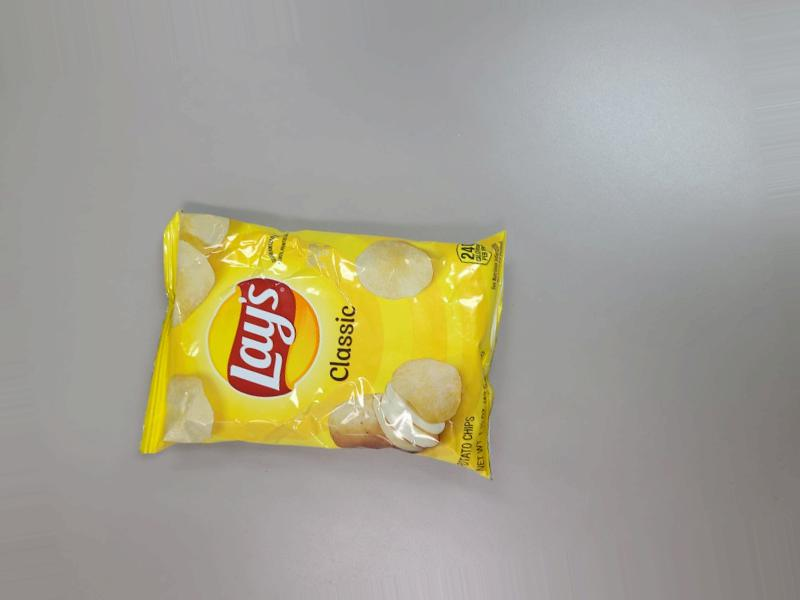lays: (153, 228, 491, 492)
